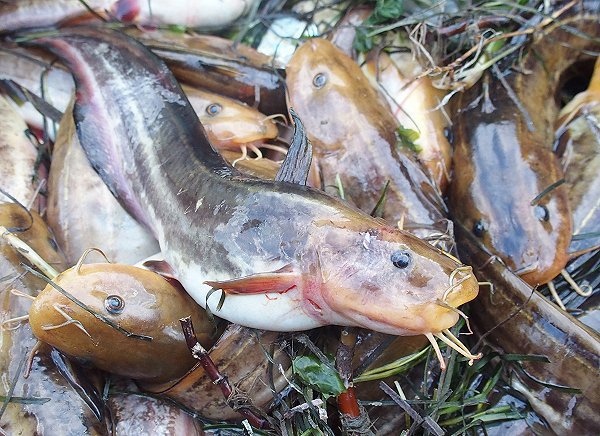gonzui: (54, 1, 487, 349)
